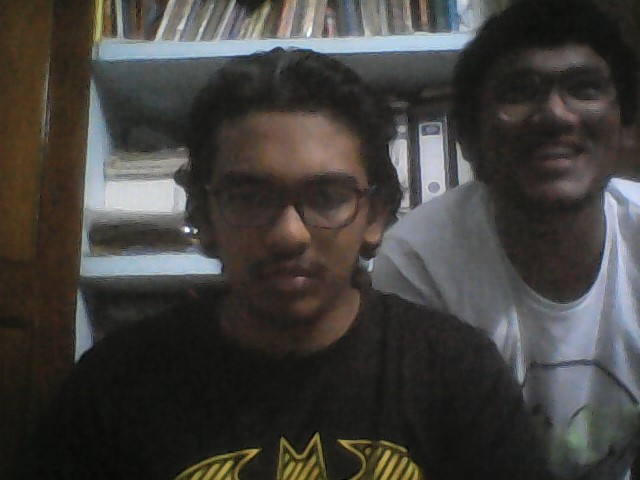person: (65, 49, 509, 480), (399, 2, 640, 316)
